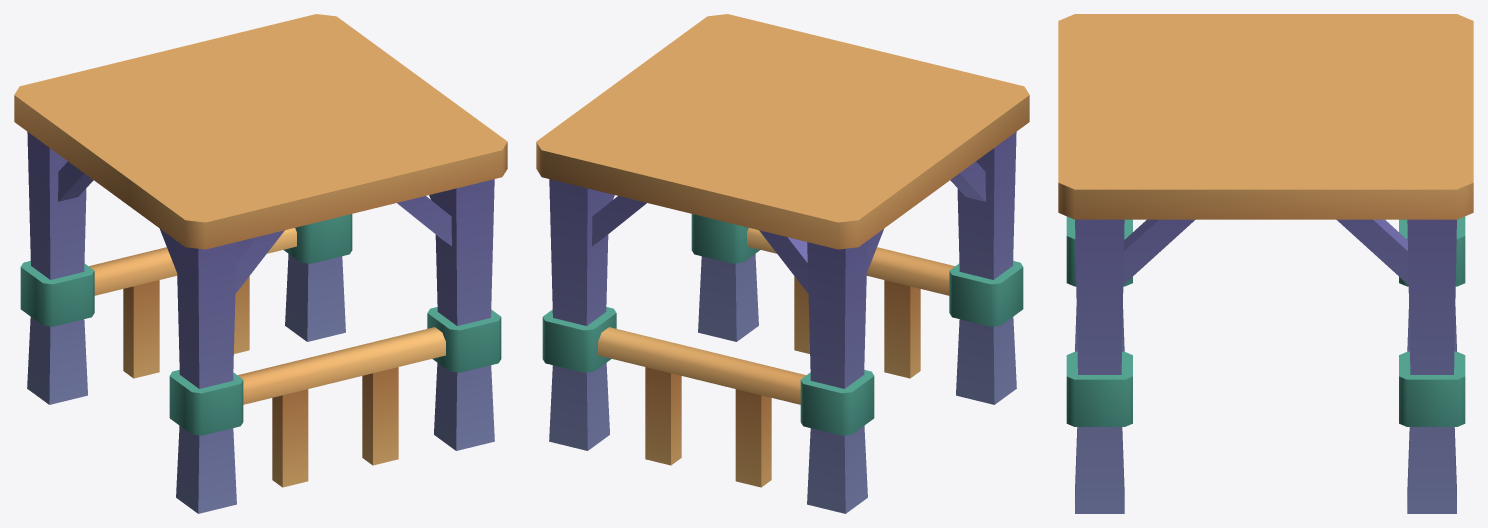
Rendered from structure-fence.fbx.
The picture shows the model from 3 angles, left to right: view 1: azimuth 30°, elevation 25°; view 2: azimuth 150°, elevation 25°; view 3: azimuth 270°, elevation 25°; orthographic projection. The views are drawn at different scales.
Parts seen in each view (by area): view 1: structure-fence; view 2: structure-fence; view 3: structure-fence.
Boxes of the visible parts, x1,y1,x2,y2 form: structure-fence: [14, 14, 507, 513]; structure-fence: [536, 14, 1029, 513]; structure-fence: [1058, 14, 1473, 513].
Size of the model in its own units: 250 by 220 by 250.
